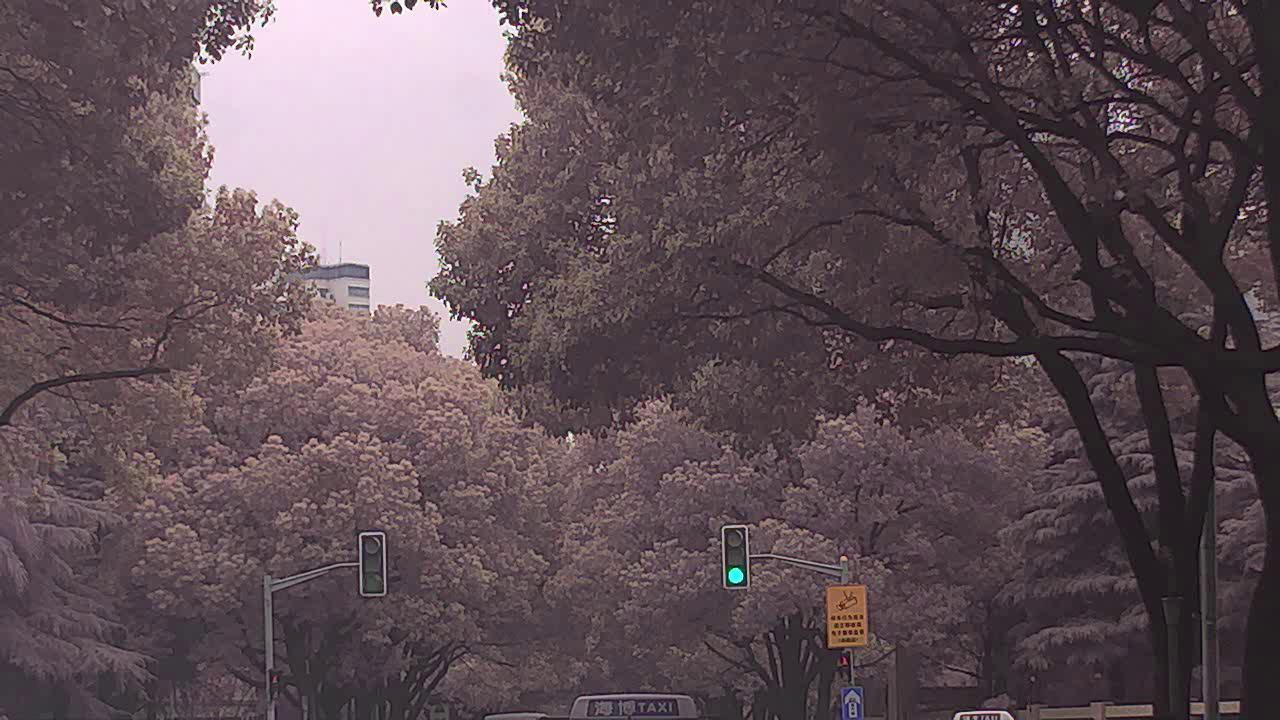traffic_light: (359, 532, 390, 601), (726, 528, 749, 588)
